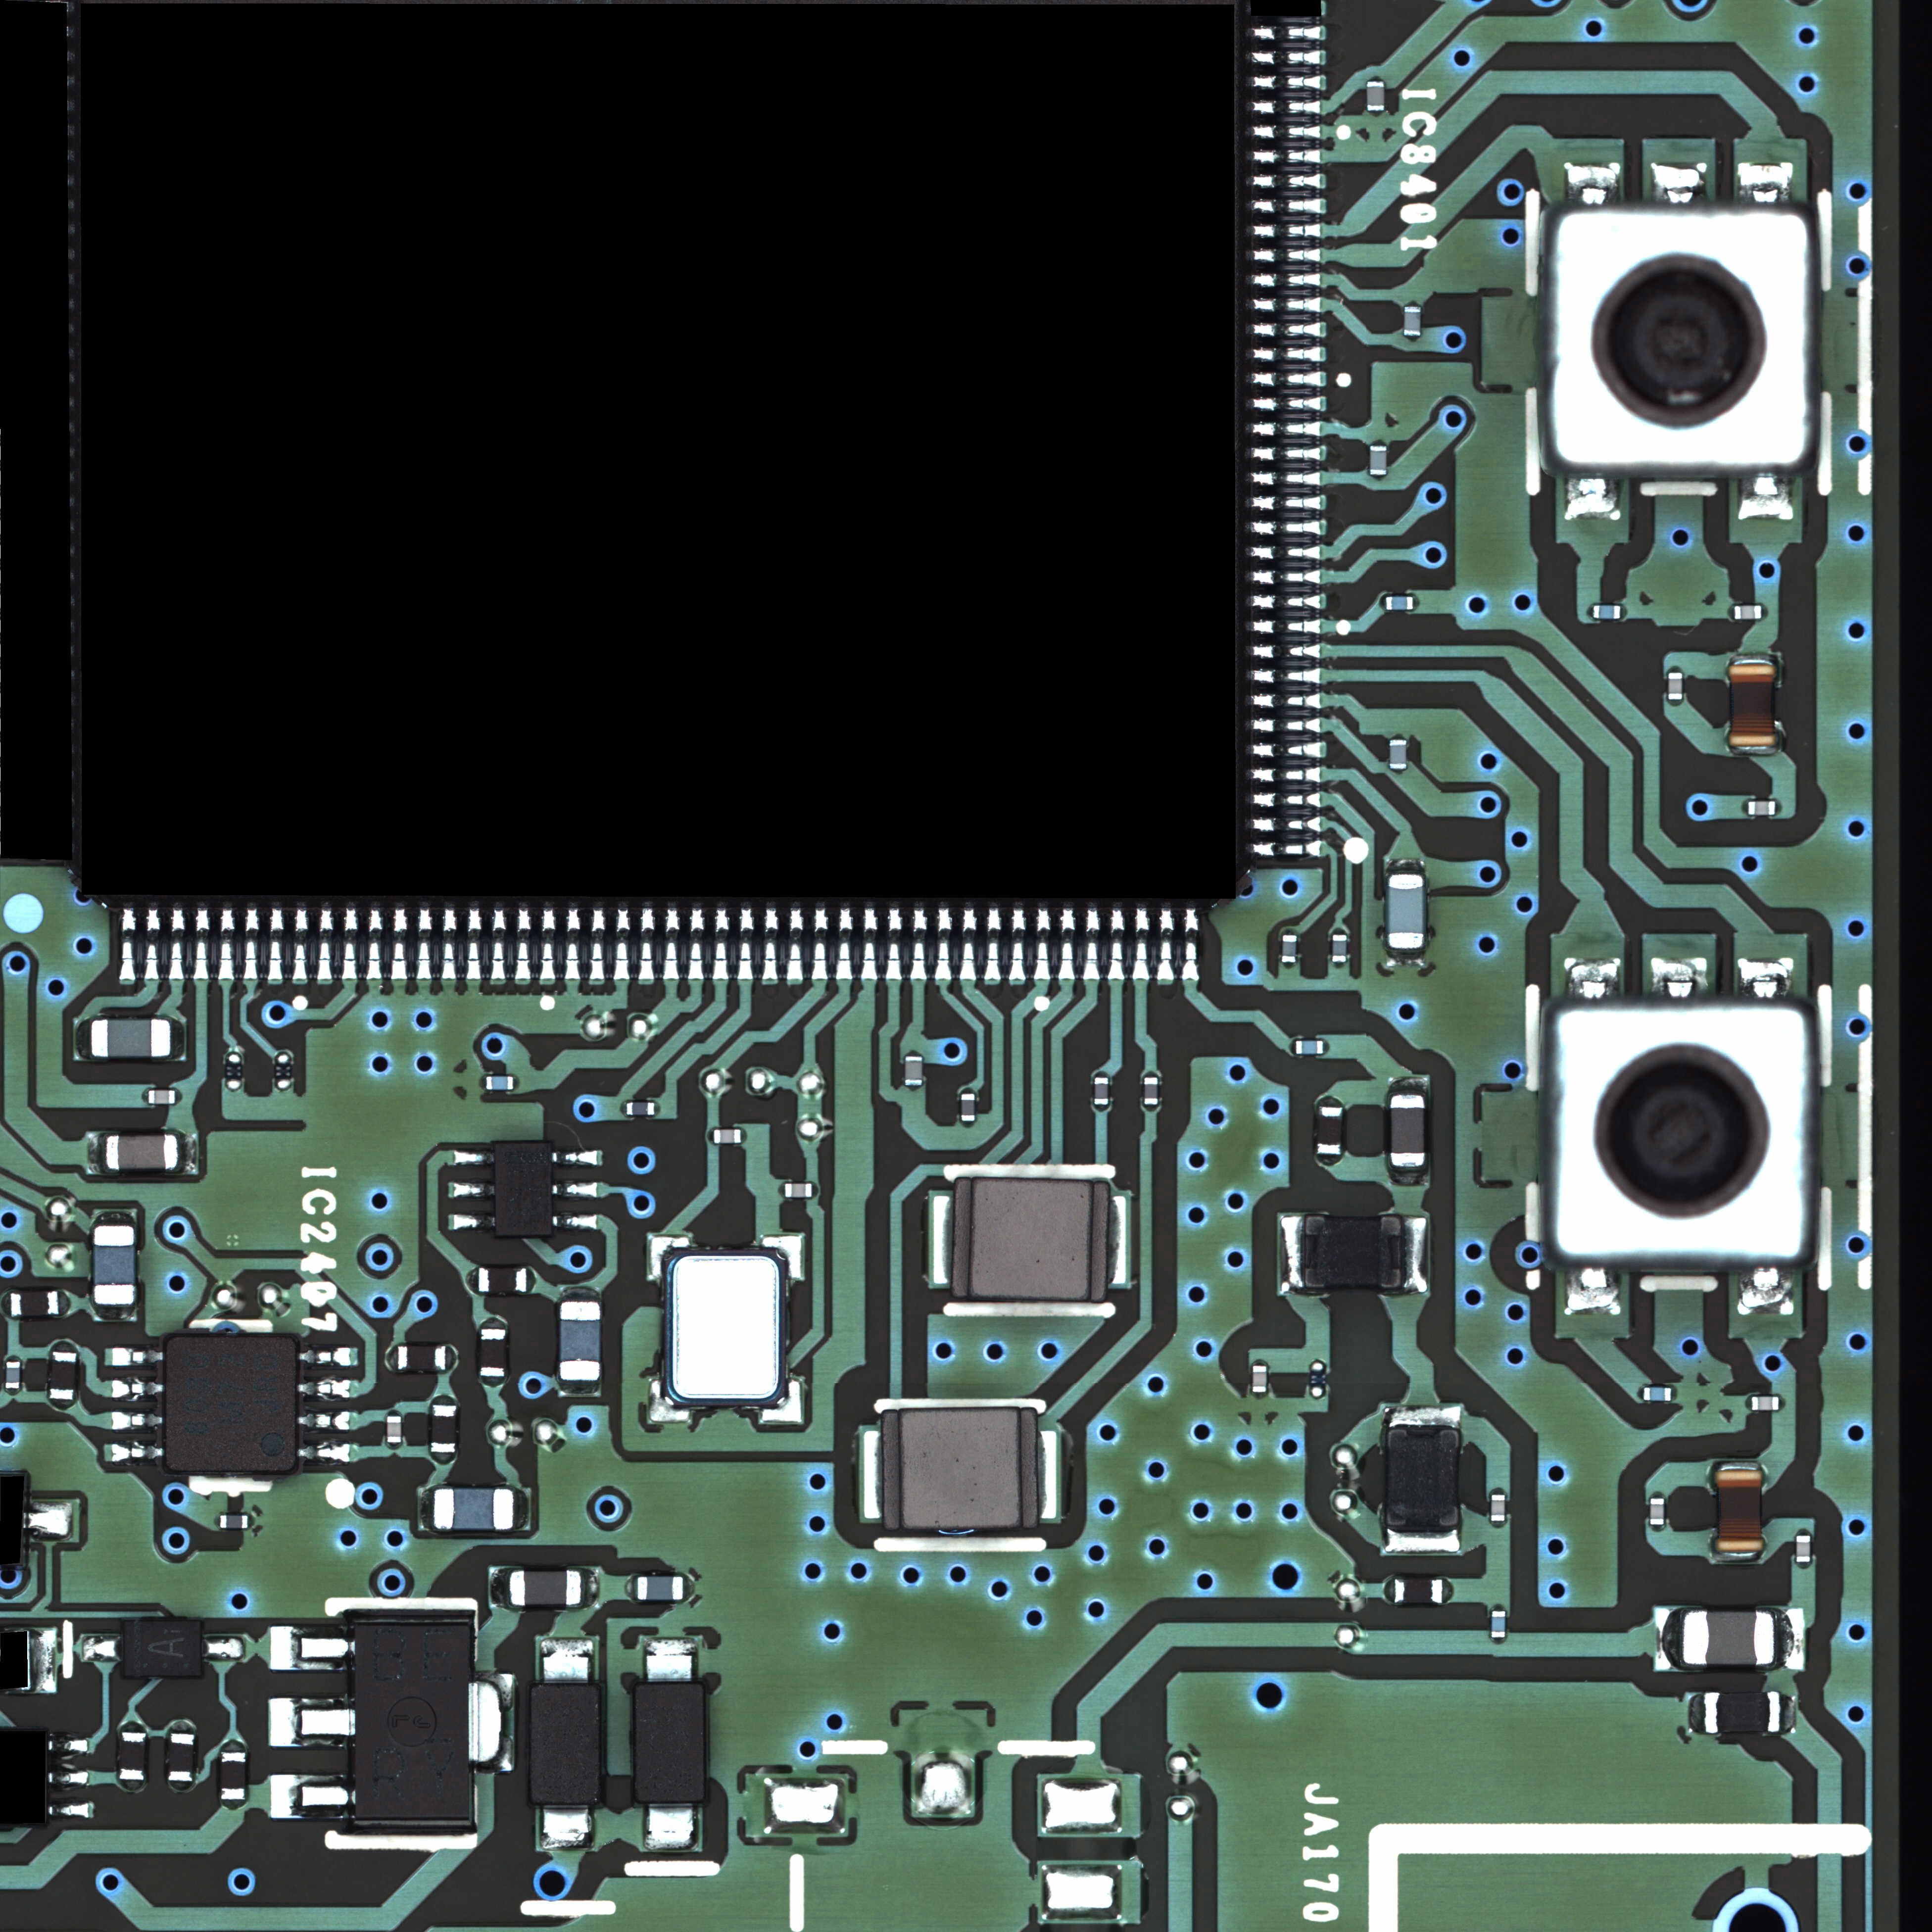Package: (356, 1624, 469, 1817), (954, 1177, 1109, 1302), (662, 1249, 786, 1405), (881, 1408, 1039, 1529), (166, 1336, 295, 1472), (531, 1684, 602, 1805), (633, 1683, 704, 1803), (1304, 1214, 1403, 1290), (1387, 1428, 1458, 1530), (495, 1143, 552, 1233), (1683, 1610, 1775, 1665), (124, 1621, 200, 1677), (1727, 665, 1776, 745), (1714, 1470, 1762, 1552), (94, 1226, 134, 1306), (1704, 1691, 1780, 1734), (433, 1490, 513, 1529), (561, 1302, 600, 1380), (92, 1019, 170, 1056), (1387, 874, 1424, 948), (106, 1134, 177, 1169), (1389, 1095, 1424, 1166), (510, 1571, 580, 1605), (50, 1352, 76, 1399), (119, 1732, 145, 1780), (479, 1267, 527, 1292), (481, 1329, 506, 1376), (430, 1405, 455, 1453), (221, 1753, 246, 1799), (398, 1346, 444, 1371), (1396, 1578, 1442, 1603), (11, 1292, 58, 1315), (170, 1734, 193, 1780), (637, 1576, 683, 1599), (1318, 1108, 1341, 1154), (1405, 306, 1421, 336), (906, 1056, 922, 1085), (1368, 81, 1384, 110), (1371, 446, 1387, 474), (1391, 740, 1407, 768), (1283, 934, 1297, 962), (1332, 934, 1346, 962), (1592, 605, 1621, 619), (386, 1417, 402, 1442), (149, 1090, 175, 1104), (221, 1514, 248, 1529), (786, 1184, 812, 1198), (1095, 1077, 1109, 1104), (1145, 1077, 1159, 1104), (1253, 1366, 1267, 1392), (1668, 672, 1683, 699), (1748, 801, 1775, 816), (1644, 1387, 1670, 1401), (1796, 1536, 1810, 1562), (5, 1362, 19, 1387), (626, 1102, 655, 1115), (715, 1129, 740, 1143), (962, 1093, 975, 1122), (1387, 596, 1412, 610), (1736, 605, 1760, 619), (1649, 1499, 1663, 1523), (1491, 1612, 1506, 1637), (487, 1077, 513, 1090), (1752, 1398, 1778, 1410), (1491, 1495, 1504, 1522), (1297, 1040, 1322, 1053)
Solder: (269, 1697, 354, 1746), (471, 1672, 513, 1771), (271, 1626, 354, 1670), (271, 1775, 354, 1819), (644, 1637, 699, 1683), (644, 1805, 699, 1851), (540, 1638, 594, 1683), (540, 1806, 594, 1849), (1775, 1606, 1805, 1670), (1403, 1215, 1428, 1292), (932, 1196, 954, 1283), (761, 1380, 803, 1422), (27, 1500, 71, 1541), (1654, 1608, 1683, 1670), (1281, 1215, 1304, 1292), (761, 1235, 801, 1277), (649, 1380, 690, 1422), (30, 1629, 57, 1693), (651, 1237, 690, 1279), (1384, 1405, 1460, 1426), (1385, 1530, 1460, 1552), (1039, 1430, 1056, 1518), (863, 1431, 881, 1518), (1109, 1196, 1127, 1283), (686, 909, 706, 982), (241, 909, 260, 980), (364, 909, 384, 980), (414, 909, 433, 980), (612, 909, 632, 980), (1058, 909, 1077, 980), (810, 909, 830, 980), (860, 909, 879, 980), (1157, 911, 1177, 982), (119, 908, 136, 980), (143, 908, 161, 980), (168, 908, 186, 980), (193, 908, 211, 980), (911, 909, 929, 982), (936, 909, 954, 982), (961, 909, 978, 982), (985, 909, 1003, 982), (1010, 909, 1028, 982), (763, 909, 780, 982), (786, 909, 803, 982), (713, 909, 731, 982), (736, 909, 754, 982), (218, 909, 235, 980), (267, 909, 285, 980), (290, 909, 308, 980), (317, 909, 334, 980), (340, 909, 357, 980), (389, 909, 407, 980), (439, 909, 456, 980), (663, 909, 681, 980), (490, 909, 508, 980), (515, 909, 533, 980), (465, 909, 483, 980), (540, 909, 557, 980), (564, 909, 582, 980), (589, 909, 607, 980), (639, 909, 656, 980), (885, 909, 902, 980), (1035, 909, 1053, 980), (1085, 909, 1102, 980), (1109, 909, 1127, 980), (835, 909, 853, 980), (1132, 911, 1150, 982), (1182, 911, 1200, 982), (1253, 766, 1322, 784), (295, 1442, 352, 1463), (1254, 791, 1322, 809), (1249, 25, 1322, 41), (1249, 74, 1322, 90), (1251, 545, 1323, 561), (83, 1635, 124, 1663), (1251, 99, 1322, 115), (1251, 594, 1322, 610), (295, 1348, 352, 1368), (295, 1378, 352, 1398), (295, 1412, 352, 1431), (202, 1637, 246, 1661), (1249, 51, 1323, 65), (111, 1346, 165, 1366), (111, 1378, 165, 1398), (111, 1410, 165, 1430), (111, 1442, 165, 1461), (1251, 124, 1323, 138), (1251, 149, 1323, 163), (1251, 175, 1323, 189), (1251, 396, 1323, 410), (1251, 421, 1323, 435), (1249, 322, 1322, 336), (1251, 347, 1323, 361), (1253, 200, 1323, 214), (1253, 225, 1323, 239), (1253, 446, 1323, 460), (1251, 495, 1322, 510), (1251, 372, 1322, 386), (1251, 621, 1322, 635), (1251, 570, 1322, 584), (1253, 743, 1323, 757), (1253, 249, 1322, 264), (1253, 274, 1322, 288), (1253, 299, 1322, 313), (1253, 471, 1322, 485), (1253, 520, 1322, 534), (1253, 644, 1322, 658), (1253, 669, 1322, 683), (1251, 694, 1320, 708), (1251, 718, 1320, 732), (1253, 816, 1322, 830), (1253, 840, 1322, 855), (490, 1568, 508, 1610), (552, 1150, 598, 1166), (179, 1132, 196, 1173), (582, 1568, 600, 1608), (1387, 1076, 1428, 1093), (552, 1214, 596, 1230), (552, 1182, 596, 1198), (1389, 1168, 1428, 1185), (74, 1017, 90, 1058), (88, 1132, 104, 1173), (453, 1150, 494, 1166), (453, 1214, 494, 1230), (419, 1486, 433, 1530), (451, 1184, 495, 1198), (1385, 950, 1424, 966), (1780, 1695, 1796, 1734), (1688, 1695, 1704, 1734), (50, 1769, 88, 1785), (172, 1017, 186, 1060), (92, 1210, 134, 1224), (94, 1306, 136, 1320), (515, 1488, 529, 1530), (559, 1286, 602, 1300), (559, 1380, 602, 1394), (1385, 858, 1424, 872), (50, 1739, 88, 1753), (1729, 653, 1780, 663), (1714, 1460, 1764, 1470), (48, 1805, 88, 1817), (1727, 747, 1778, 755), (1713, 1553, 1764, 1562), (58, 1290, 71, 1316), (219, 1739, 246, 1752), (446, 1345, 458, 1371), (465, 1267, 478, 1293), (1316, 1155, 1343, 1168), (221, 1799, 246, 1812), (432, 1392, 456, 1405), (432, 1453, 456, 1465), (386, 1345, 398, 1369), (170, 1720, 193, 1732), (625, 1576, 637, 1599), (51, 1341, 78, 1352), (50, 1401, 76, 1412), (168, 1782, 195, 1792), (685, 1575, 695, 1601), (479, 1316, 506, 1327), (527, 1267, 538, 1293), (1444, 1578, 1454, 1605), (481, 1376, 506, 1387), (1318, 1095, 1343, 1106), (1384, 1580, 1394, 1603), (120, 1782, 147, 1790), (119, 1721, 143, 1730), (1670, 1385, 1679, 1401), (1403, 336, 1422, 343), (175, 1088, 182, 1106), (386, 1442, 403, 1449), (1093, 1104, 1108, 1113), (1491, 1603, 1506, 1612), (142, 1088, 149, 1104), (386, 1408, 402, 1415), (513, 1076, 520, 1092), (479, 1074, 487, 1090), (812, 1182, 819, 1198), (778, 1182, 786, 1198), (906, 1049, 922, 1056), (906, 1085, 922, 1092), (1093, 1070, 1109, 1077), (1378, 594, 1385, 610), (1727, 605, 1734, 621), (1667, 665, 1683, 672), (1776, 800, 1783, 816), (1741, 800, 1748, 816), (1391, 732, 1407, 740), (1323, 1039, 1330, 1054), (1490, 1522, 1506, 1529), (1744, 1396, 1752, 1412), (1778, 1396, 1785, 1412), (5, 1353, 19, 1361), (248, 1514, 255, 1529), (212, 1514, 219, 1529), (706, 1129, 713, 1143), (1145, 1106, 1159, 1113), (1621, 605, 1628, 619), (1585, 605, 1592, 619), (1332, 927, 1346, 934), (1281, 962, 1295, 970), (1288, 1040, 1295, 1054), (1253, 1392, 1267, 1399), (1637, 1385, 1644, 1399), (1651, 1525, 1665, 1532), (1796, 1562, 1810, 1569), (1368, 111, 1385, 117), (1369, 441, 1387, 446), (1369, 476, 1387, 481), (1414, 594, 1419, 612), (7, 1389, 19, 1396), (962, 1122, 975, 1129), (1283, 927, 1295, 934), (1253, 1359, 1265, 1366), (621, 1100, 626, 1116), (655, 1100, 660, 1116), (741, 1129, 747, 1145), (1368, 74, 1384, 80), (1405, 301, 1421, 306), (1667, 701, 1683, 706), (1391, 770, 1407, 775), (961, 1088, 975, 1093), (1143, 1070, 1157, 1076), (1762, 605, 1767, 619), (1491, 1488, 1506, 1493), (1491, 1638, 1506, 1644), (1649, 1491, 1663, 1497), (1796, 1529, 1810, 1534), (1334, 962, 1346, 968)
